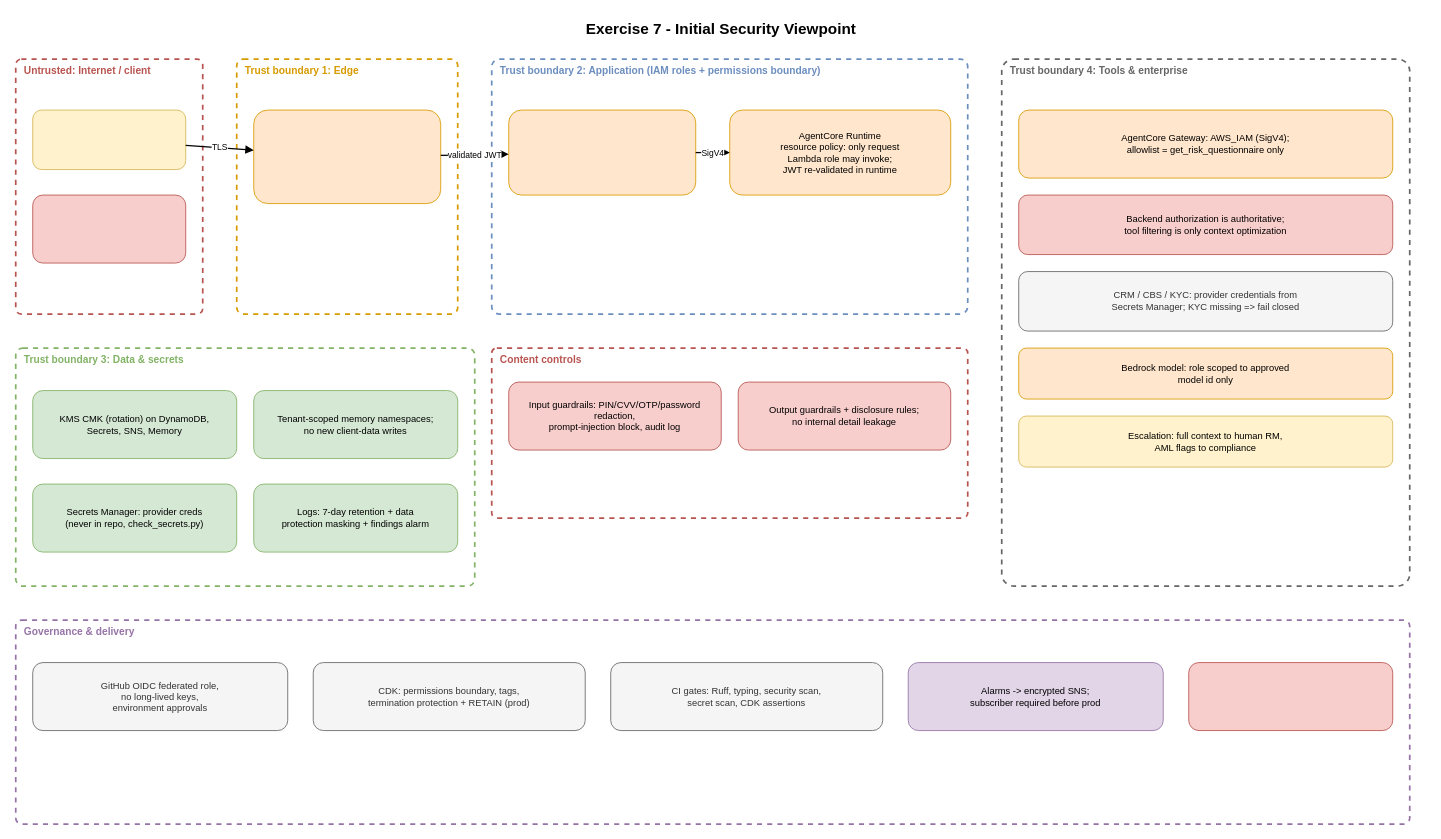
This 1441x839 diagram has some shape labels left out. The centre of each missing label's shape, as x and y in pixels:
API Gateway TLS, throttling, Cognito authorizer (JWT, audience, tenant claim): (x=347, y=156)
Attacker: prompt injection, credential phishing: (x=109, y=228)
Client device (untrusted input): (x=109, y=139)
Open: data-owner approval for memory, KYC provider, retention/erasure SLA: (x=1290, y=696)
Request Lambda verified principal only; idempotency; SSM runtime ARN: (x=602, y=152)
